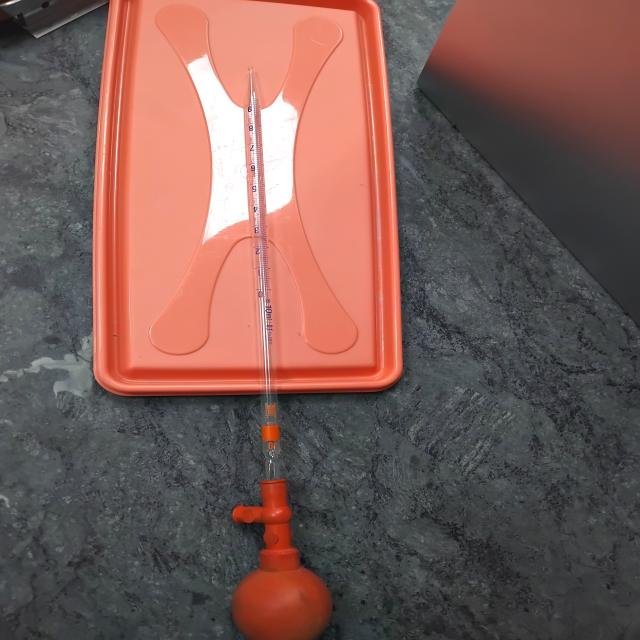Volumetric_Pipet: (198, 56, 377, 640)
